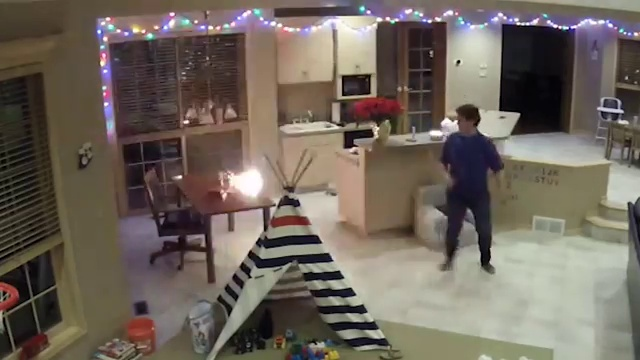face: (455, 113, 472, 133)
